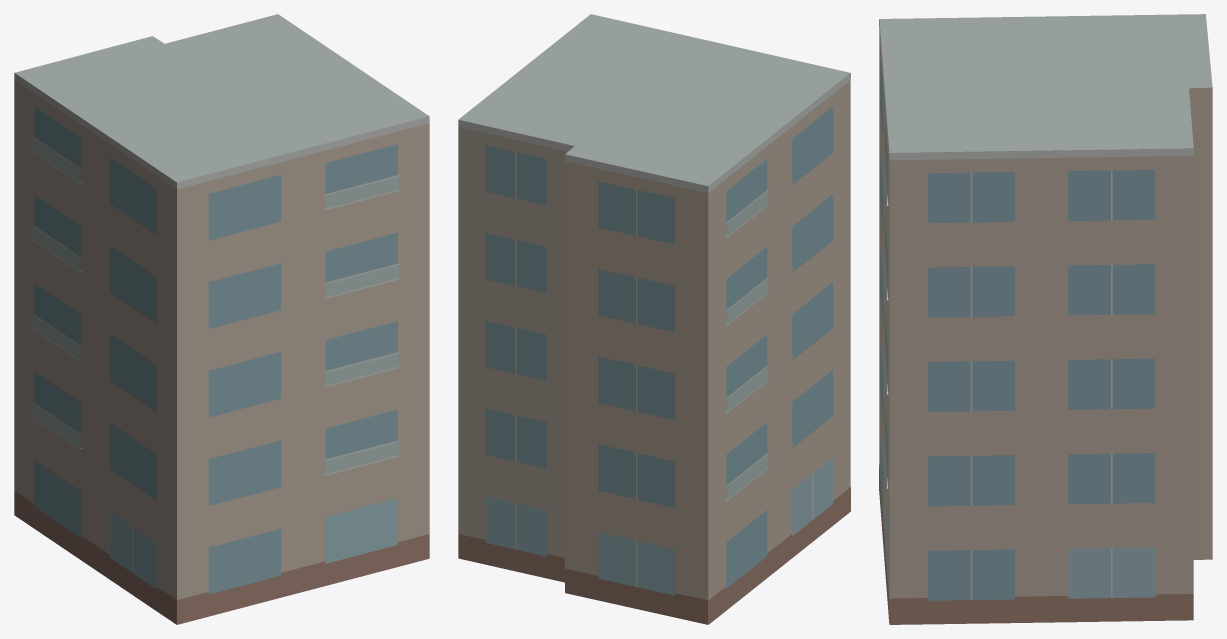
Rendered from survey-upis-32576716.glb.
3 views of the same model, side by side, from view 1: azimuth 30°, elevation 25°; view 2: azimuth 150°, elevation 25°; view 3: azimuth 270°, elevation 25° (orthographic). The views are drawn at different scales.
Parts seen in each view (by area): view 1: survey-upis-32576716.tmp; view 2: survey-upis-32576716.tmp; view 3: survey-upis-32576716.tmp.
Part boxes in pixels (left/top/right/bottom): survey-upis-32576716.tmp: left=14, top=14, right=429, bottom=624; survey-upis-32576716.tmp: left=458, top=14, right=850, bottom=624; survey-upis-32576716.tmp: left=879, top=14, right=1212, bottom=624.
Size of the model in its own units: 9.73 by 15.4 by 9.87.
